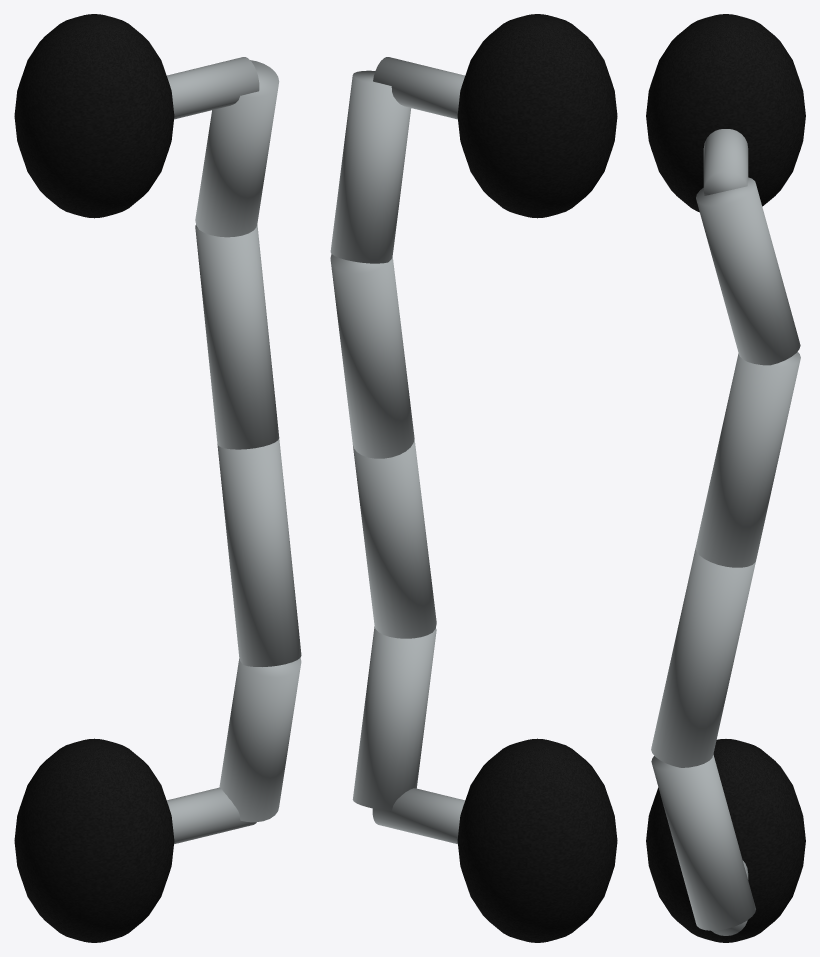
File: lure_handle.glb
3 views of the same model, side by side, from view 1: azimuth 30°, elevation 25°; view 2: azimuth 150°, elevation 25°; view 3: azimuth 270°, elevation 25° (orthographic).
Parts seen in each view (by area): view 1: Swept double crank.001; view 2: Swept double crank.001; view 3: Swept double crank.001.
Boxes of the visible parts, x1,y1,x2,y2 form: Swept double crank.001: (14, 14, 301, 942); Swept double crank.001: (330, 14, 617, 942); Swept double crank.001: (646, 14, 805, 942).
Size of the model in its own units: 0.0325 by 0.114 by 0.018.
2 materials, 1 textured.
